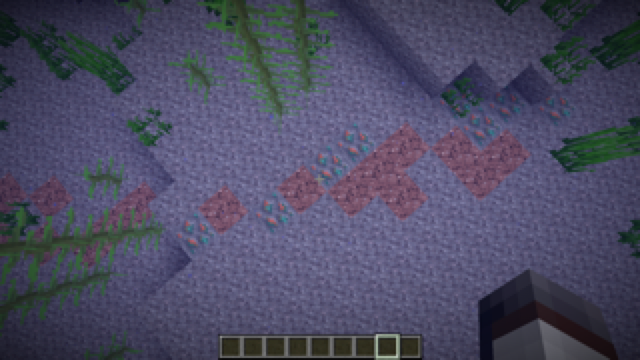copper: (436, 77, 580, 144), (309, 123, 378, 186), (172, 209, 218, 259), (250, 188, 297, 236)
